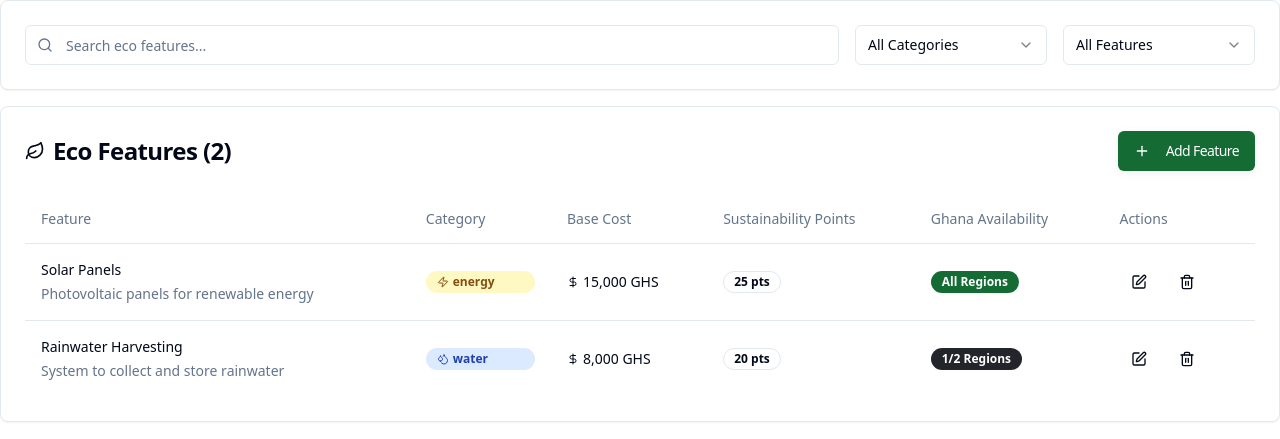
it: EcoFeatureManagement › should filter features by search term
Step 1. Type "solar" into the field with placeholder "Search eco features..." → (432, 45), box x1=25 y1=25 x2=839 y2=65
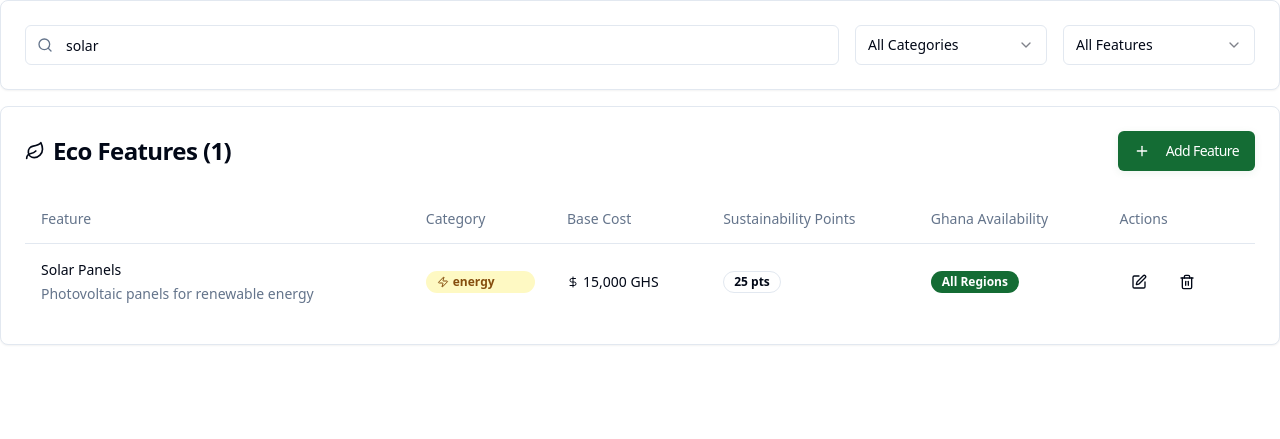
Expected: the text "Solar Panels" is shown, x1=41 y1=260 x2=121 y2=278
Now the text "Rainwater Harvesting" is gone
